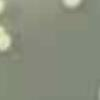white: (55, 0, 89, 15), (0, 25, 15, 53), (0, 0, 7, 16)
